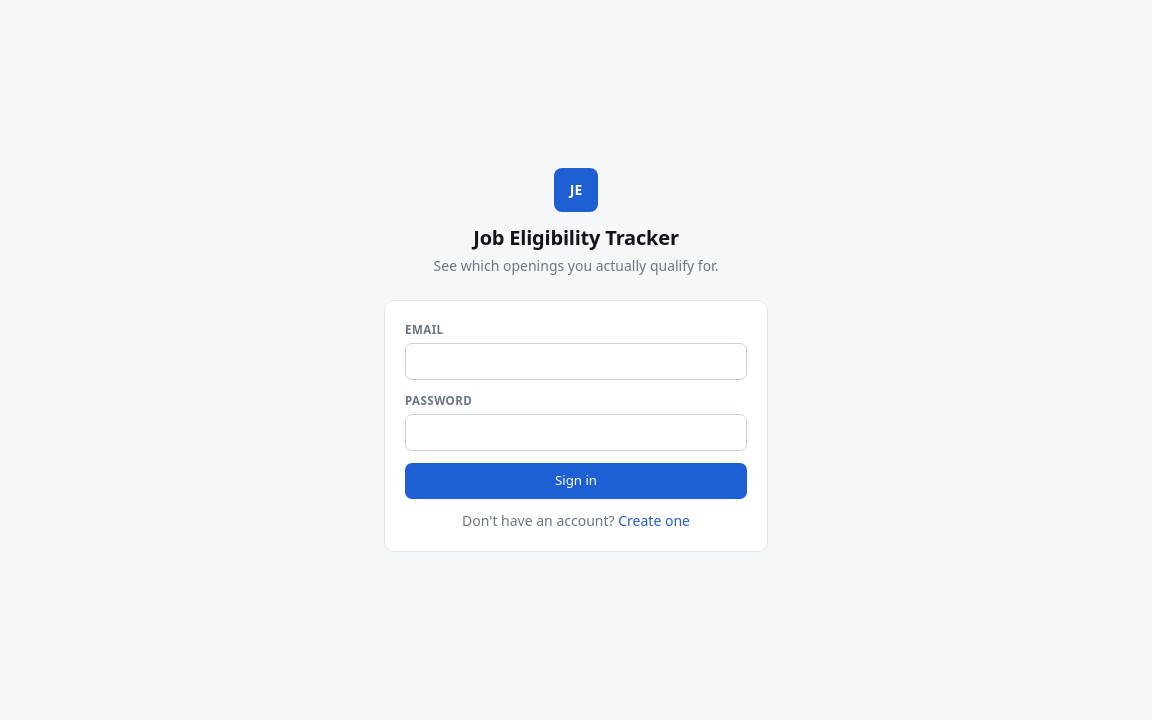
Test: Authentication › sends an unauthenticated visitor to the login page and back again
This screenshot has width=1152, height=720.
Expected: the heading "Job Eligibility Tracker" is shown, [473,224,679,251]
Type "ritik@example.com" into the field labelled "Email" at (576, 362), box [405,343,747,380]
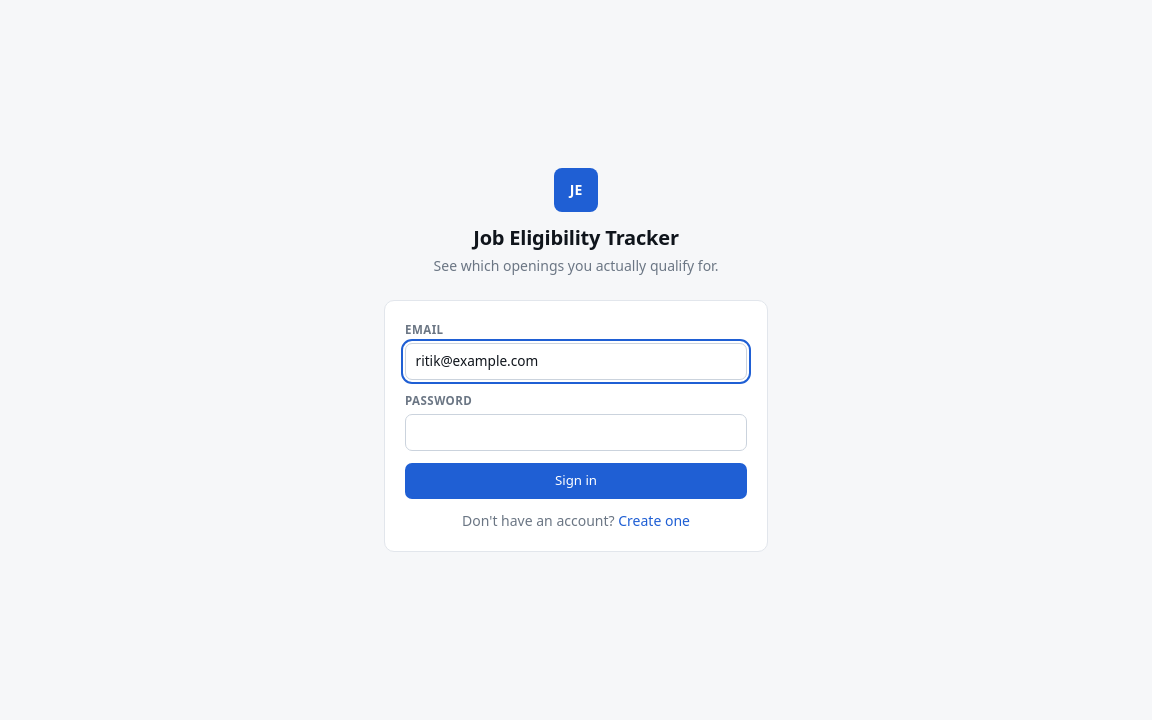
Type "supersecret1" into the password field labelled "Password" at (576, 432), box [405,414,747,451]
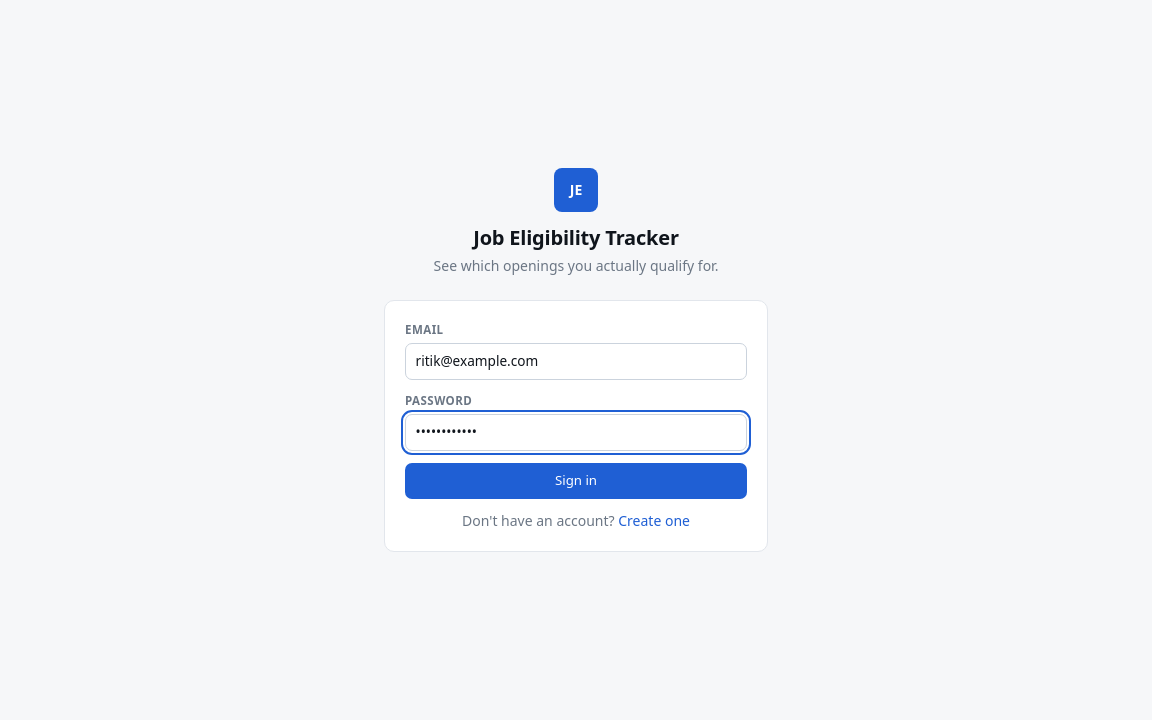
Click the button "Sign in" at (576, 481), box [405,463,747,499]
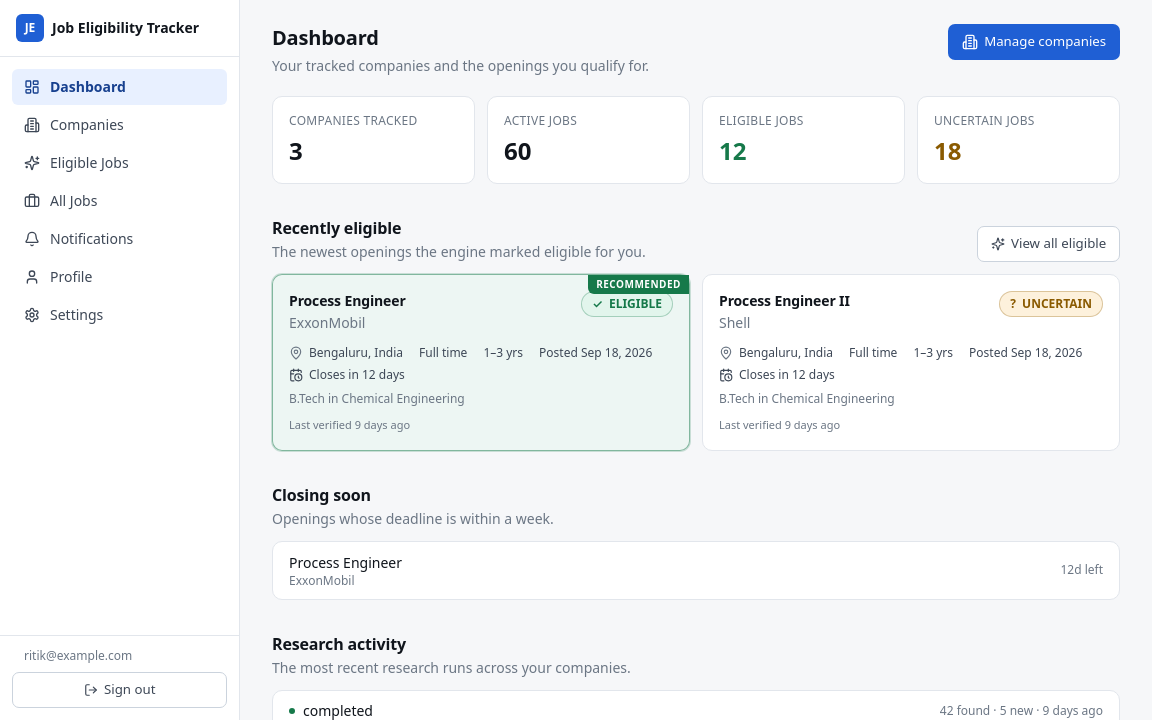
Expected: the text "Companies tracked" is shown, [289,112,418,129]
